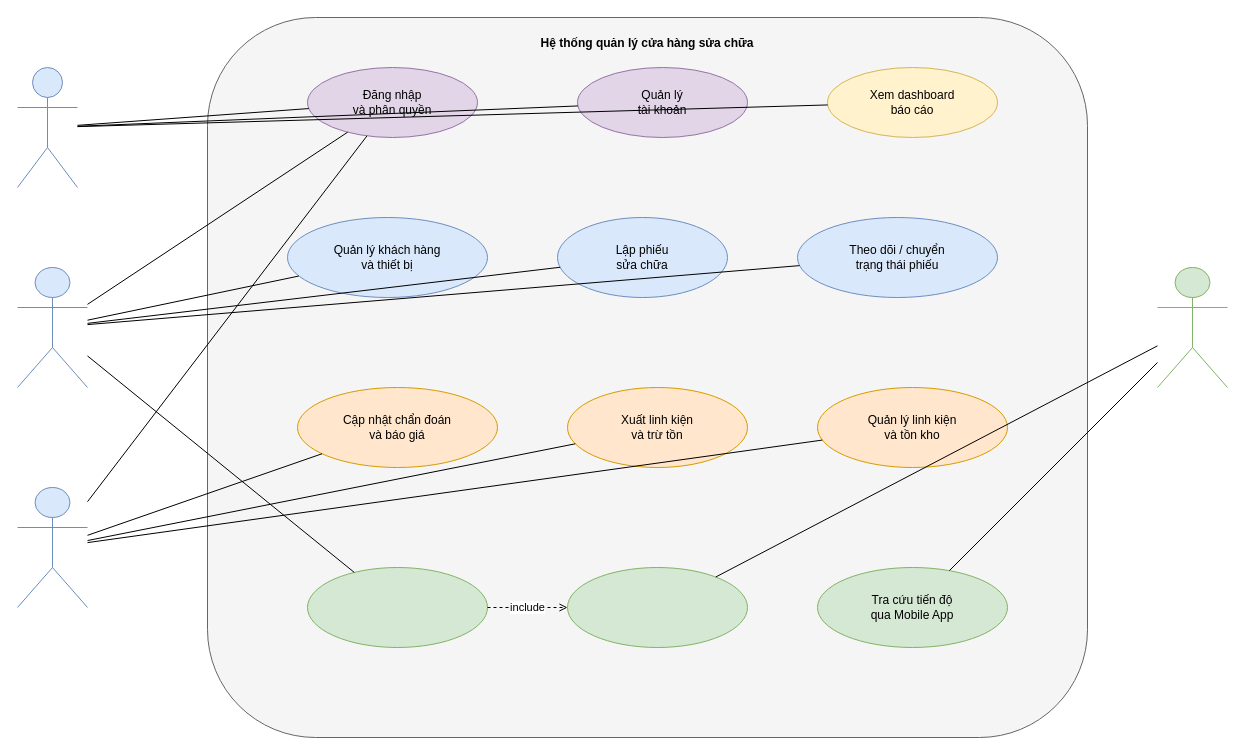
The diagram is 1245 pixels wide and 755 high, and some of its shapes have lost their labels. The shapes that lost their labels are listed below. From the top down, each one's centre as x and y in pixels, then its label:
the point at 47,127: Admin
the point at 52,327: Nhân viên tiếp nhận
the point at 1192,327: Khách hàng
the point at 52,547: Kỹ thuật viên
the point at 397,607: Lập hóa đơn và thanh toán
the point at 657,607: Sinh / tra cứu bảo hành
